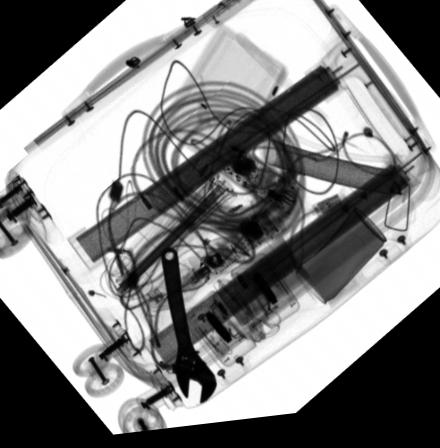Wrench: (160, 250, 217, 408)
